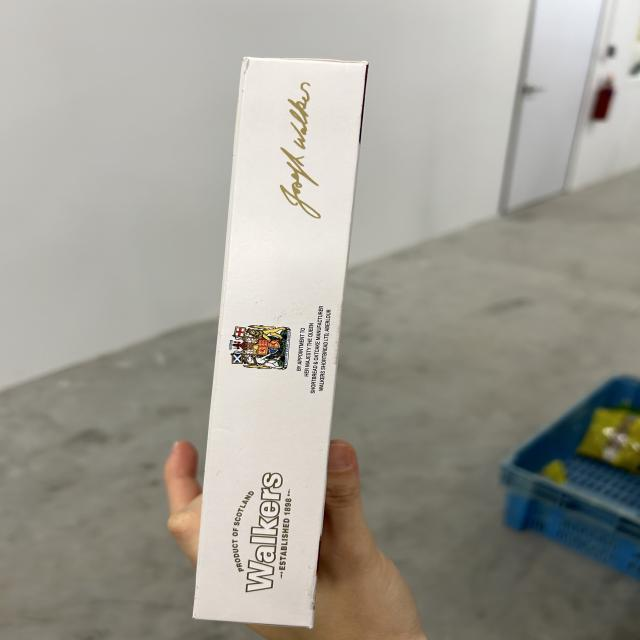object_name: (227, 57, 316, 628)
